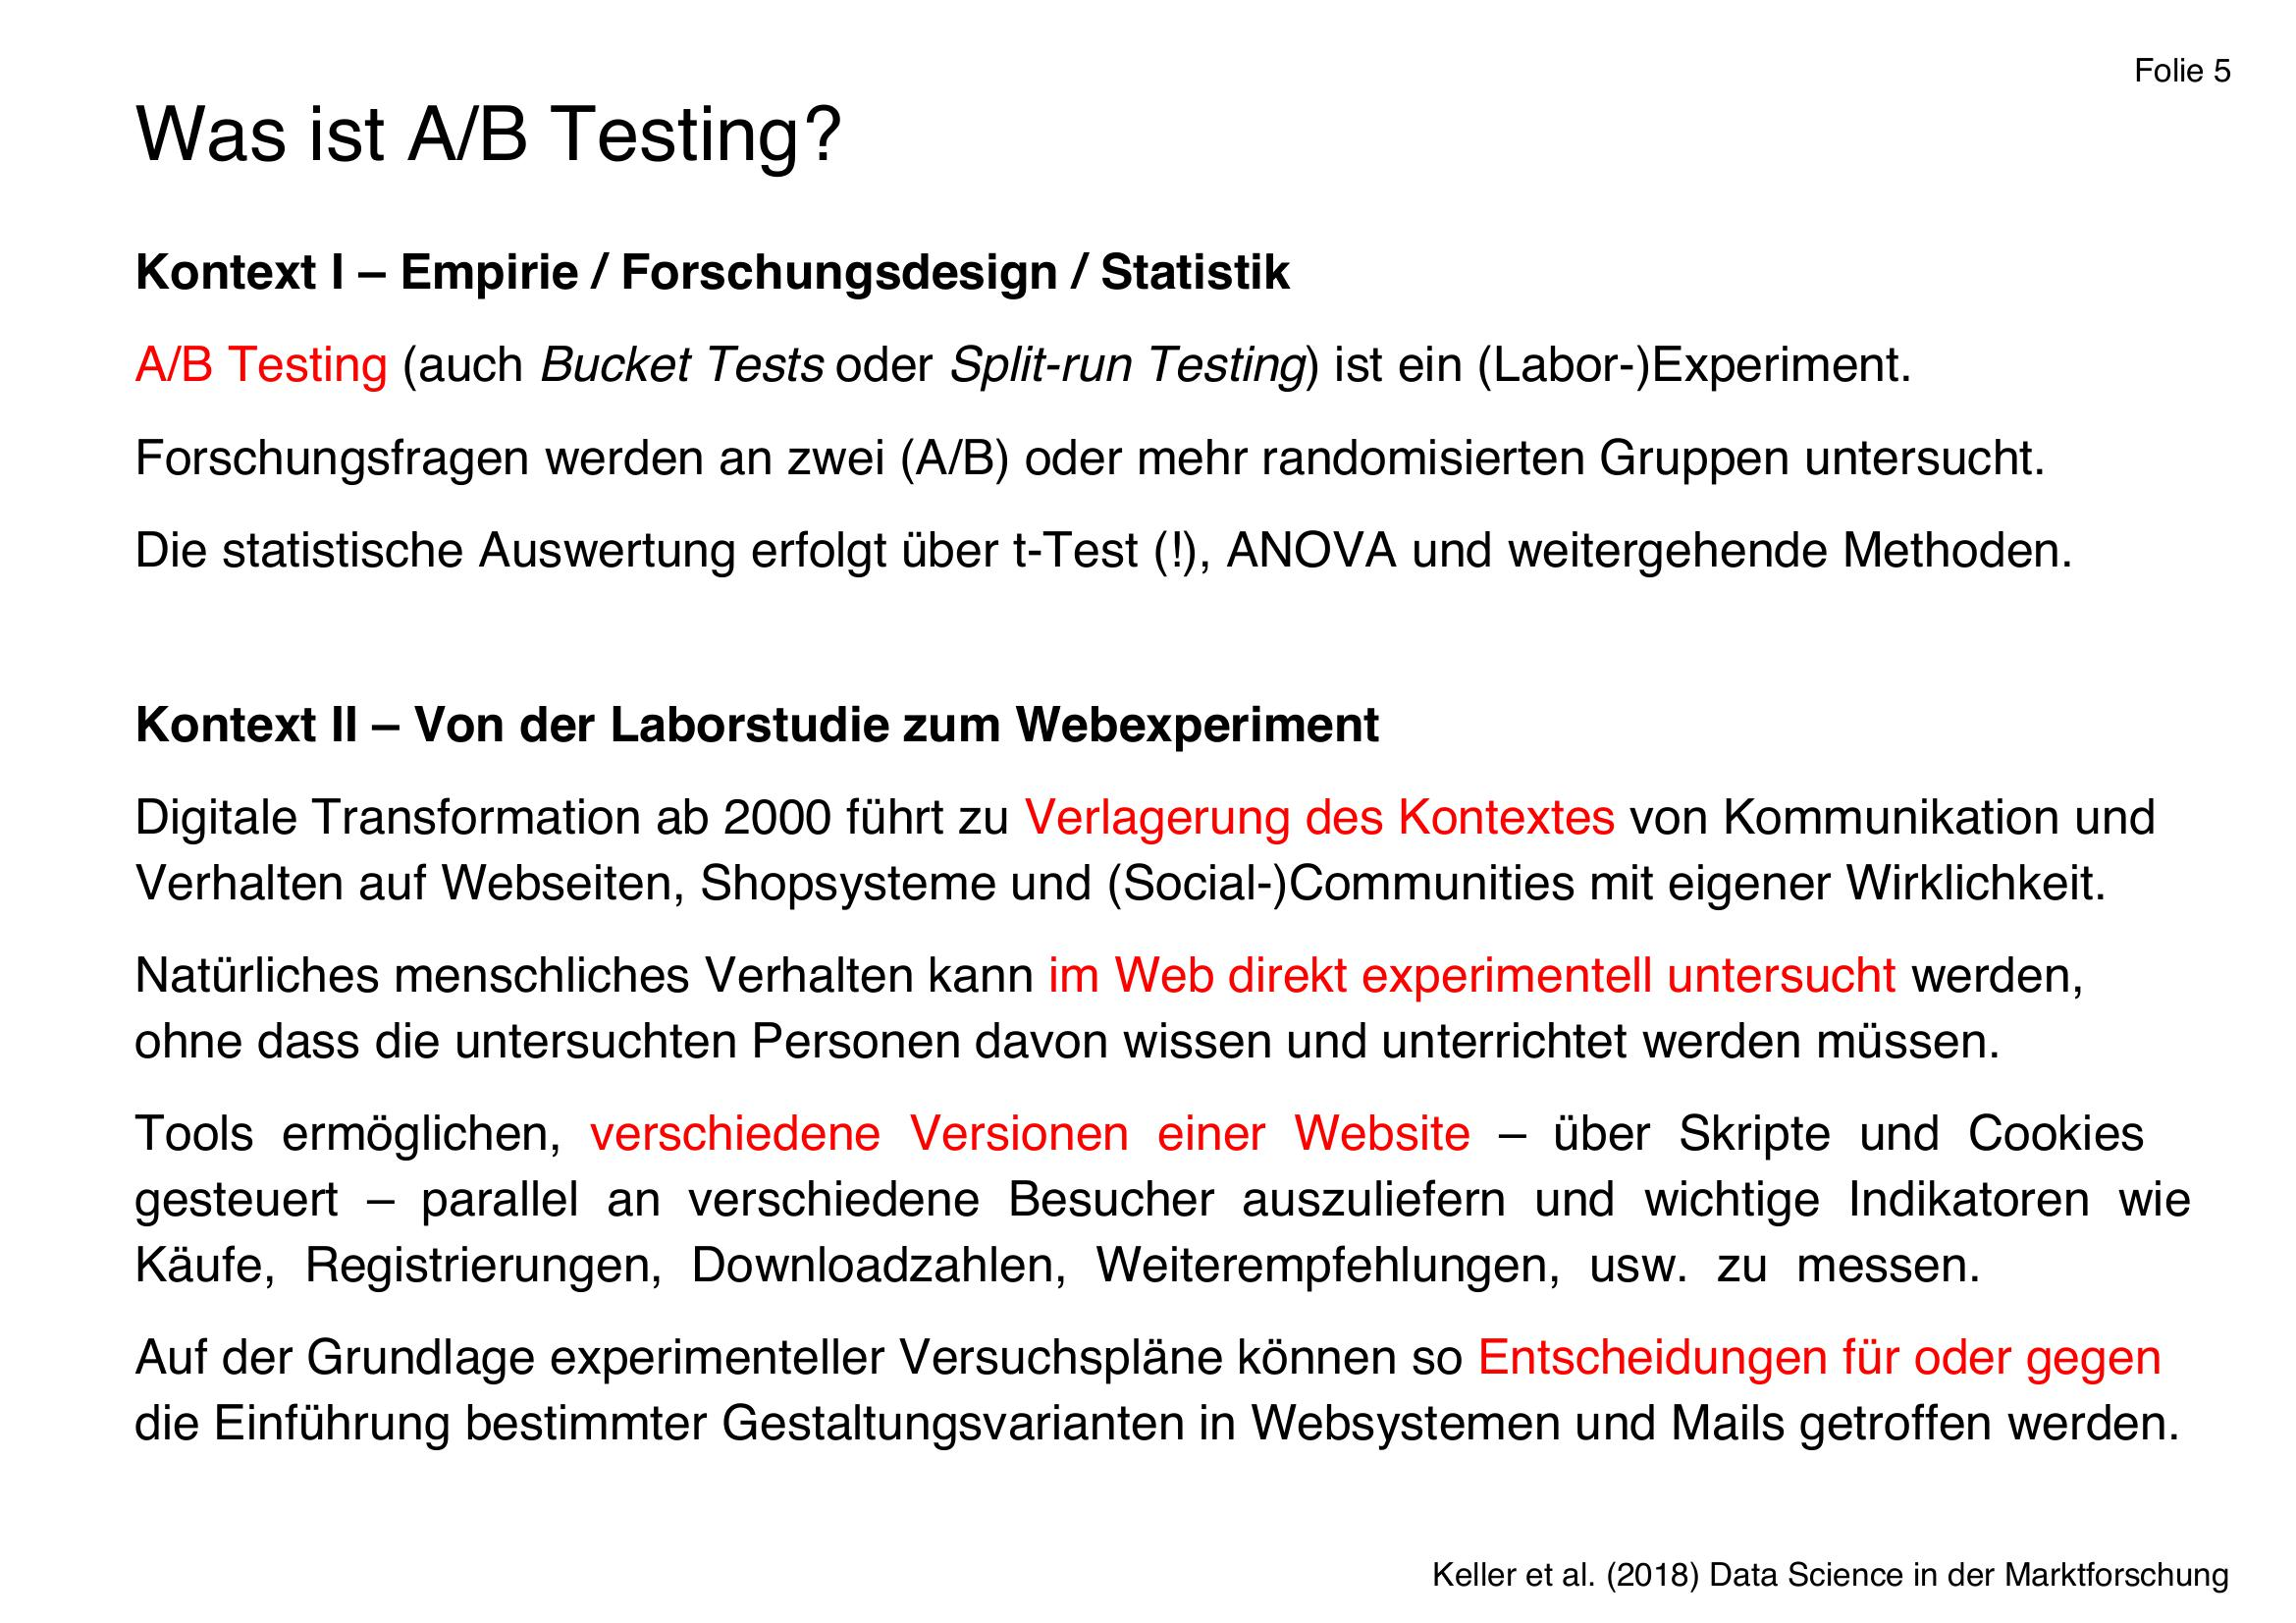Title: (98, 86, 860, 190)
